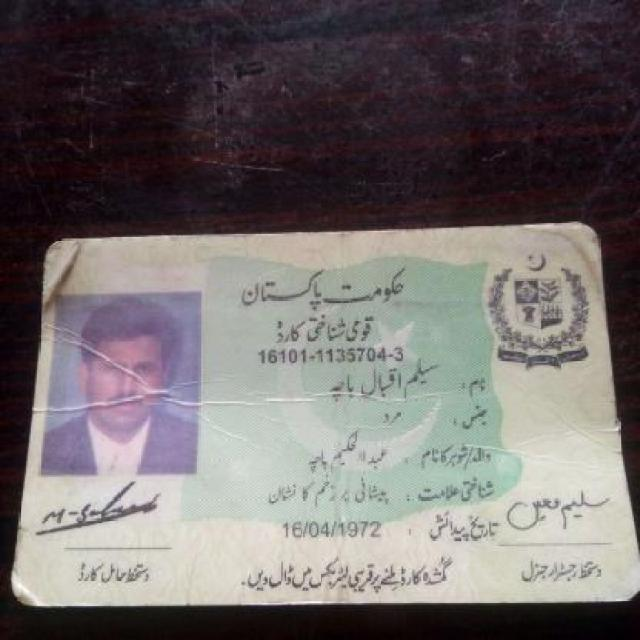Front: (16, 220, 630, 612)
